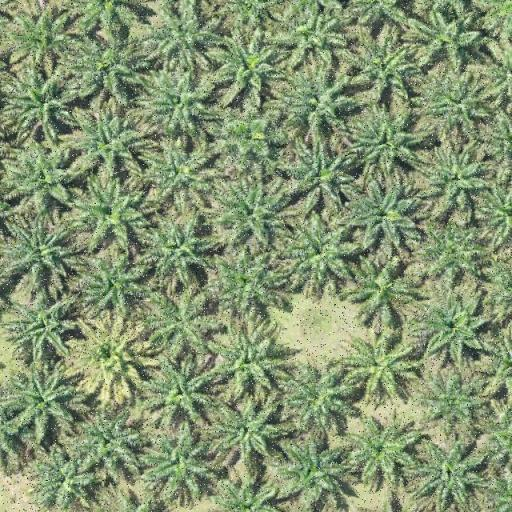Ganoderma: (80, 329, 135, 383)
